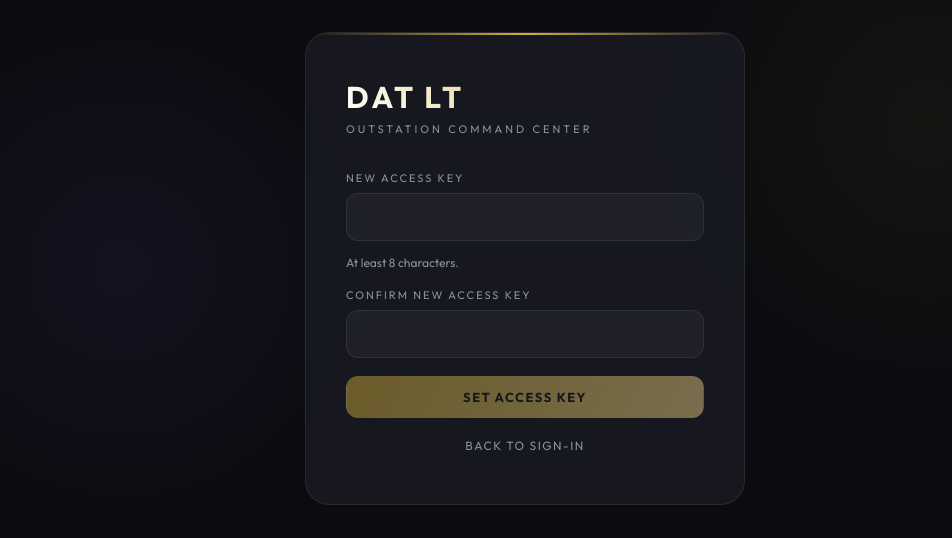
Test: Login page › following a reset link › says so when the link has already been used
Check: the element with test id "auth-ready" is shown, box [305,32,745,504]
Type "BrandNewPassword9!" into the password field labelled "New Access Key".
click(525, 216); type("BrandNewPassword9!")  # box [346,192,704,240]
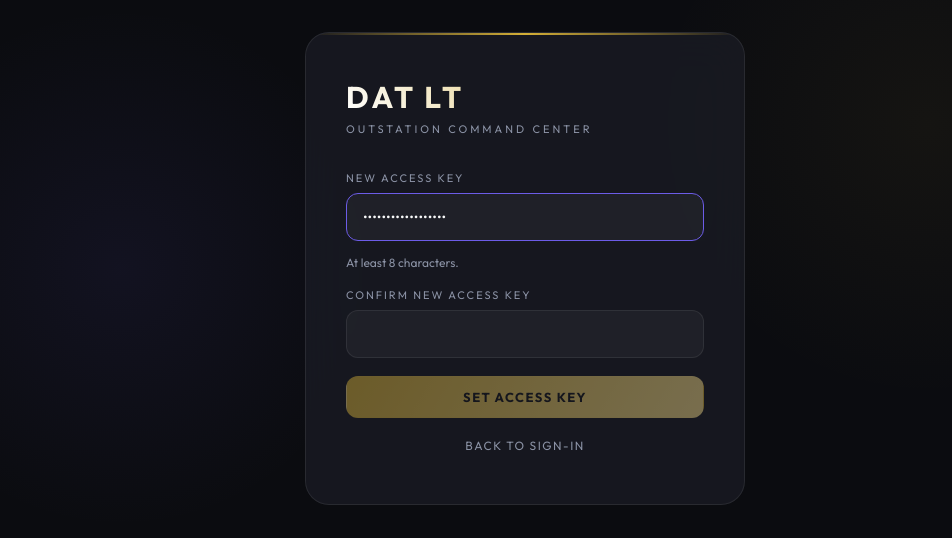
Type "BrandNewPassword9!" into the password field labelled "Confirm New Access Key".
click(525, 334); type("BrandNewPassword9!")  # box [346,310,704,358]
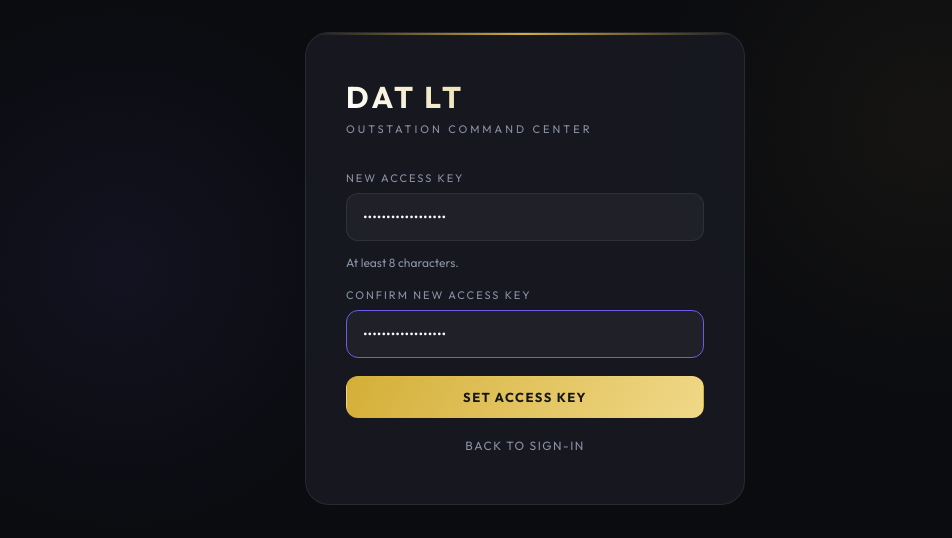
Click the button "Set access key".
click(525, 396)  # box [346,376,704,418]
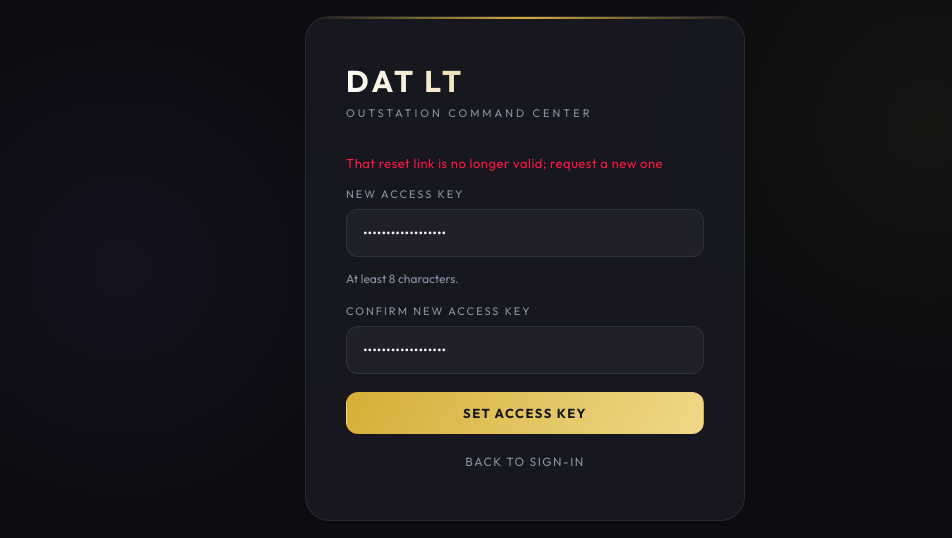
Check: the text "That reset link is no longer valid; request a new one" is shown, box [346,154,704,170]
